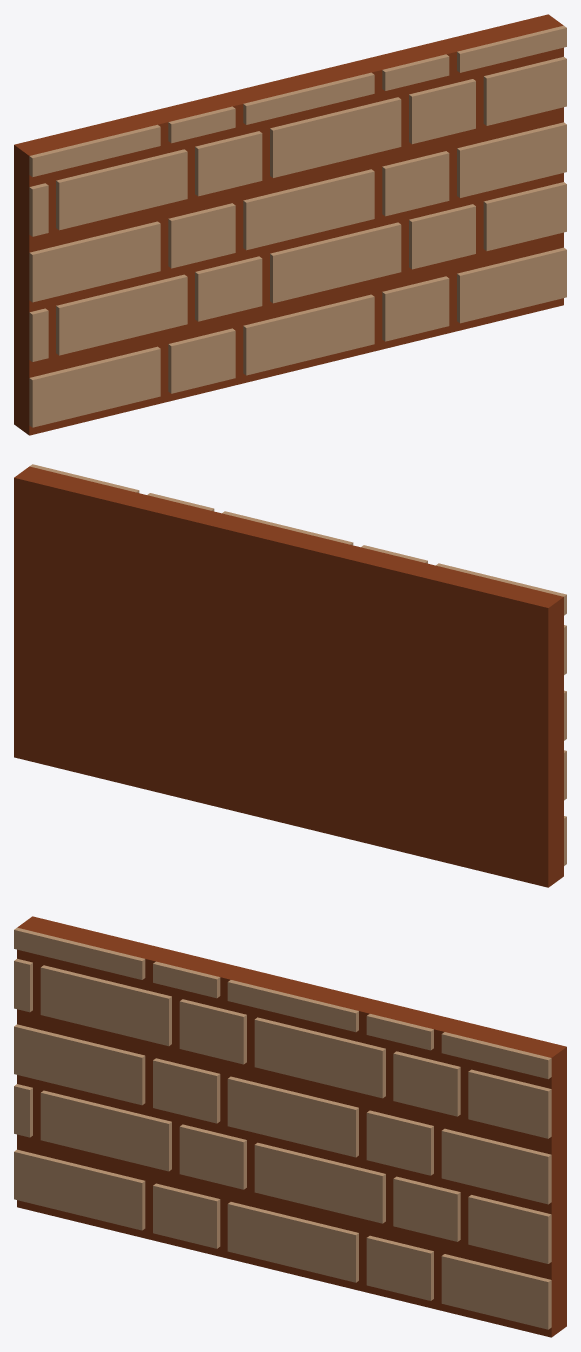
The model's file is BrickV1HalfWall.fbx.
The picture shows the model from 3 angles, top to bottom: view 1: azimuth 30°, elevation 25°; view 2: azimuth 150°, elevation 25°; view 3: azimuth 330°, elevation 25°; orthographic projection.
Visible parts, largest first — view 1: BrickV1HalfWall; view 2: BrickV1HalfWall; view 3: BrickV1HalfWall.
Part boxes in pixels (x1,y1,x2,y2): BrickV1HalfWall: (14, 14, 566, 435); BrickV1HalfWall: (14, 464, 566, 887); BrickV1HalfWall: (14, 916, 566, 1337).
Size of the model in its own units: 200 by 100 by 12.
